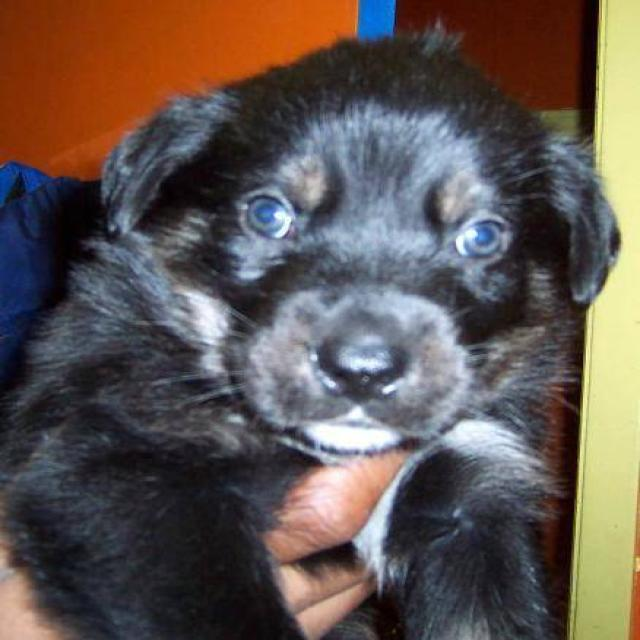dog: (0, 18, 621, 639)
